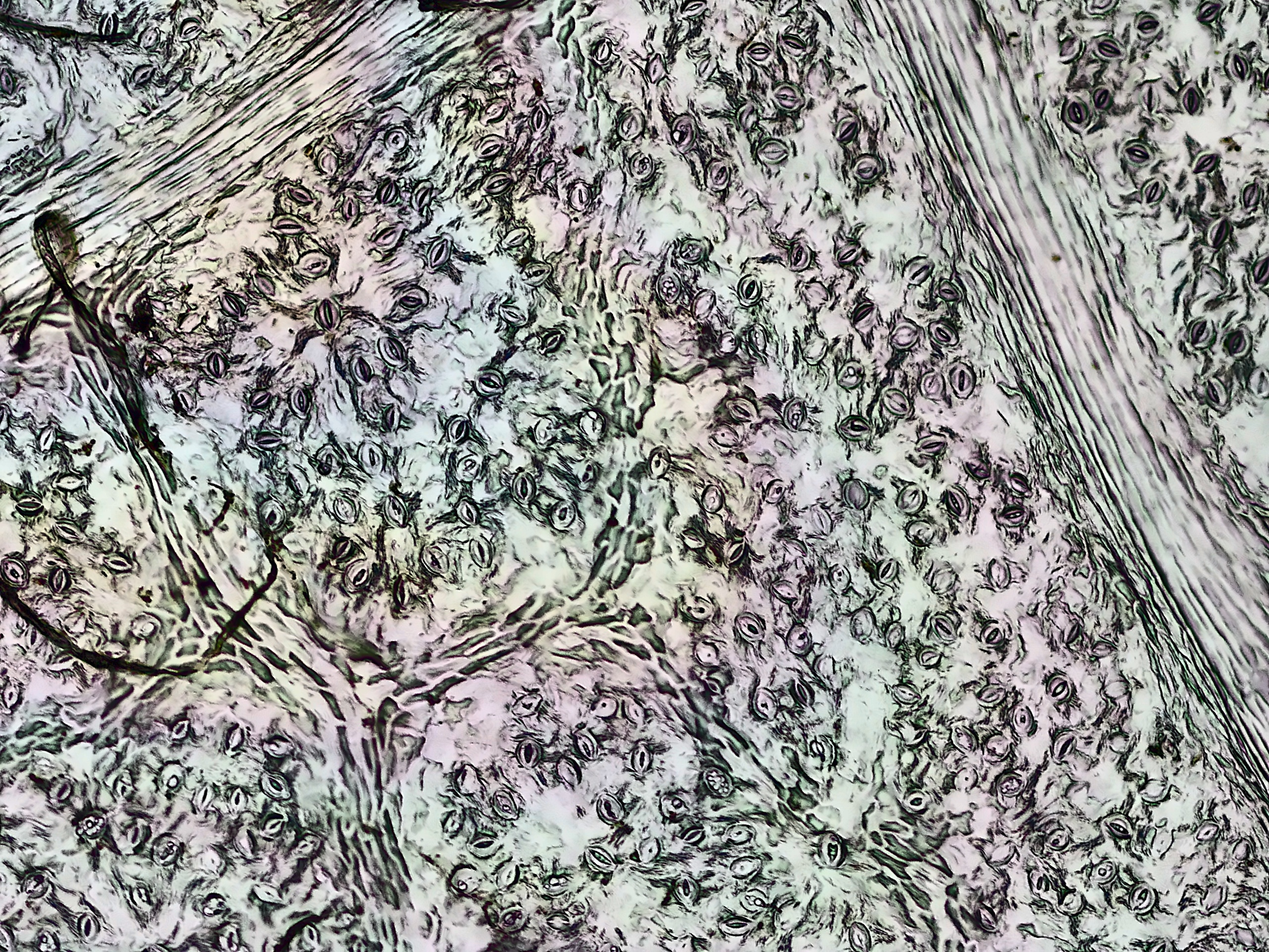stomata: (294, 249, 333, 277), (676, 595, 715, 623), (671, 871, 699, 907), (155, 832, 184, 866), (554, 755, 582, 790), (950, 361, 976, 398), (818, 830, 847, 863), (1, 557, 28, 592), (578, 409, 609, 439), (704, 767, 733, 799), (258, 498, 286, 531), (1091, 34, 1125, 61), (597, 792, 623, 827), (317, 442, 342, 477), (477, 365, 504, 397), (735, 611, 764, 640), (262, 771, 290, 801), (617, 108, 644, 139), (851, 154, 882, 181), (1123, 139, 1154, 166), (1139, 777, 1170, 804), (785, 623, 811, 655), (492, 789, 515, 825), (427, 236, 452, 269), (52, 774, 76, 808), (160, 761, 184, 795), (515, 736, 539, 770), (1206, 374, 1230, 408), (903, 255, 932, 283), (420, 545, 450, 572), (881, 389, 911, 416), (774, 86, 806, 111), (850, 605, 875, 637), (128, 615, 160, 640), (380, 339, 409, 366), (356, 444, 383, 473), (704, 161, 731, 190), (889, 322, 918, 349), (1069, 94, 1092, 128), (727, 857, 761, 880), (316, 298, 342, 328), (446, 414, 472, 444), (1224, 52, 1250, 82), (346, 561, 371, 592), (93, 637, 128, 659), (384, 494, 408, 526), (465, 829, 497, 853), (1010, 705, 1034, 737), (20, 870, 47, 898), (750, 688, 777, 716), (898, 484, 924, 513), (1129, 886, 1158, 912), (549, 496, 574, 526), (636, 834, 661, 864), (725, 397, 759, 419), (828, 564, 852, 595), (769, 581, 800, 605), (813, 737, 837, 768), (315, 145, 339, 176), (673, 114, 696, 146), (996, 504, 1028, 527), (470, 535, 492, 568), (370, 225, 403, 247), (511, 474, 536, 503), (657, 272, 682, 301), (890, 681, 920, 705), (529, 102, 550, 136), (225, 723, 248, 754), (839, 417, 870, 440), (756, 141, 788, 163), (988, 556, 1010, 588), (131, 883, 156, 911), (456, 496, 480, 525), (844, 478, 868, 507), (941, 487, 965, 516), (661, 793, 690, 817), (411, 178, 434, 208), (738, 275, 761, 305), (1053, 731, 1076, 761), (127, 817, 150, 847), (680, 239, 711, 261), (1180, 82, 1202, 113), (900, 789, 931, 811), (331, 495, 358, 520), (622, 696, 647, 723), (712, 422, 739, 447), (783, 398, 804, 430), (800, 282, 828, 306), (693, 289, 716, 318), (837, 362, 863, 387), (1059, 890, 1085, 915), (61, 608, 87, 633), (627, 152, 654, 176), (497, 906, 525, 929), (75, 813, 104, 835), (701, 486, 723, 515), (929, 323, 958, 345), (978, 622, 1007, 644), (233, 829, 255, 858), (569, 180, 590, 210), (648, 446, 669, 476), (810, 505, 831, 535), (849, 921, 870, 951), (253, 883, 283, 904), (786, 244, 811, 269), (952, 725, 977, 750), (216, 924, 240, 950), (694, 639, 718, 665), (1047, 675, 1070, 702), (953, 768, 980, 791), (0, 680, 21, 709), (220, 292, 244, 317), (385, 126, 409, 151), (929, 614, 952, 640), (931, 568, 954, 594), (254, 272, 277, 298), (396, 290, 423, 312), (996, 772, 1023, 794), (1047, 826, 1074, 848), (26, 618, 45, 649), (719, 916, 750, 935), (1190, 318, 1211, 346), (791, 677, 812, 705), (513, 693, 541, 714), (497, 860, 517, 889), (51, 519, 83, 537), (259, 739, 295, 755), (1142, 177, 1165, 202), (1207, 220, 1230, 245), (587, 846, 613, 868), (743, 888, 769, 910), (1058, 38, 1084, 60), (195, 784, 214, 814), (520, 264, 550, 283), (975, 906, 996, 933), (574, 730, 592, 761), (1135, 12, 1159, 35), (544, 873, 567, 897), (1226, 329, 1248, 354), (1192, 151, 1218, 172), (352, 355, 372, 382), (645, 53, 663, 83), (633, 740, 651, 770), (179, 18, 202, 41), (920, 373, 944, 395), (1240, 184, 1262, 208), (53, 474, 84, 491), (485, 172, 510, 193), (682, 528, 707, 549), (837, 117, 858, 142), (978, 686, 1003, 707), (967, 458, 993, 478), (230, 787, 249, 814), (78, 913, 97, 940), (478, 135, 501, 157), (1093, 85, 1115, 108), (1107, 816, 1130, 838), (15, 498, 43, 516), (49, 568, 70, 592), (748, 326, 766, 354), (916, 436, 944, 454), (877, 558, 898, 582), (592, 696, 616, 717), (500, 305, 525, 325), (764, 478, 784, 503), (138, 26, 158, 51), (443, 810, 463, 835), (393, 577, 409, 608), (38, 426, 56, 453), (343, 197, 361, 224), (262, 814, 282, 838), (100, 11, 117, 39), (459, 455, 477, 481), (289, 184, 311, 205), (1010, 473, 1032, 494), (854, 301, 874, 324), (885, 623, 904, 647), (916, 647, 941, 665), (938, 281, 958, 303), (539, 332, 562, 351), (782, 34, 805, 53), (837, 244, 861, 262), (1089, 861, 1113, 879), (1142, 85, 1159, 110), (207, 354, 226, 376), (594, 39, 613, 61), (727, 824, 749, 843), (254, 431, 277, 449), (279, 218, 303, 235), (105, 556, 129, 573), (504, 229, 528, 246), (1201, 2, 1225, 19), (535, 419, 551, 444), (1028, 872, 1047, 893), (133, 65, 153, 84), (299, 924, 319, 943), (172, 719, 189, 741), (293, 389, 309, 412), (377, 182, 396, 201), (727, 541, 744, 562), (749, 43, 770, 60), (1197, 824, 1216, 842), (176, 390, 193, 410), (386, 409, 400, 433), (1090, 642, 1114, 656), (1064, 619, 1078, 643), (547, 915, 569, 930), (704, 676, 722, 694), (336, 537, 351, 558), (683, 827, 702, 843), (540, 162, 557, 179), (252, 392, 271, 405)
